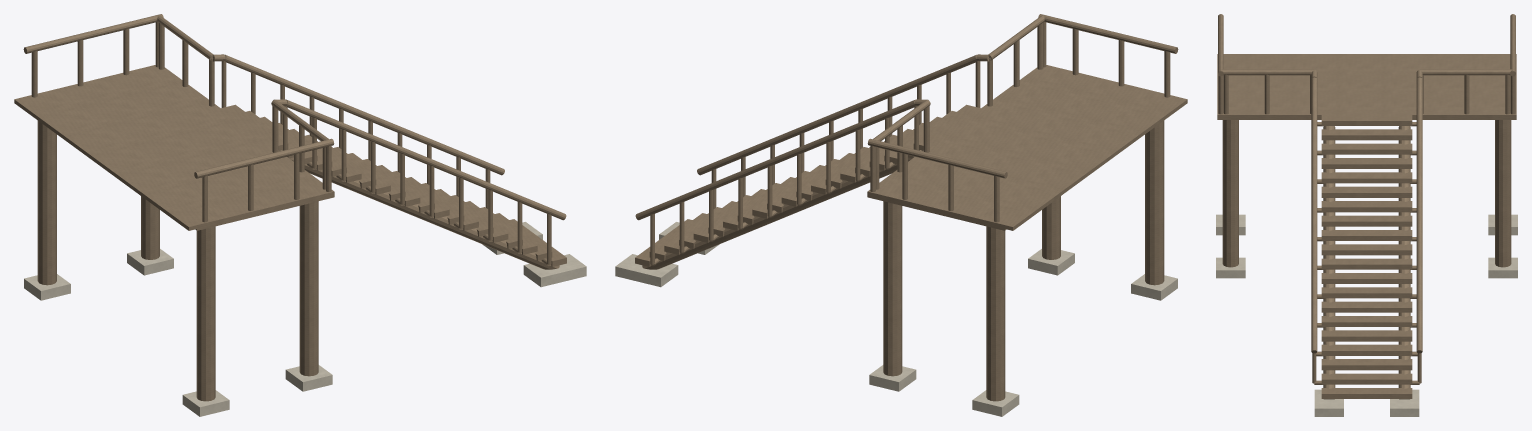
The model's file is access-A-LOD0.glb.
3 renders of one model, left to right at view 1: azimuth 30°, elevation 25°; view 2: azimuth 150°, elevation 25°; view 3: azimuth 270°, elevation 25°, orthographic. The views are drawn at different scales.
Visible parts, largest first — view 1: access-A-static_timber, access-A-static_earth; view 2: access-A-static_timber, access-A-static_earth; view 3: access-A-static_timber, access-A-static_earth.
Boxes of the visible parts, <box> form: access-A-static_timber: <box>14,14,566,401</box>; access-A-static_earth: <box>24,222,586,416</box>; access-A-static_timber: <box>635,14,1187,401</box>; access-A-static_earth: <box>615,222,1177,416</box>; access-A-static_timber: <box>1217,14,1516,399</box>; access-A-static_earth: <box>1216,214,1517,416</box>.
Bounding box in the file's own units: 9.92 × 5.27 × 6.65.
2 materials, 2 textured.
